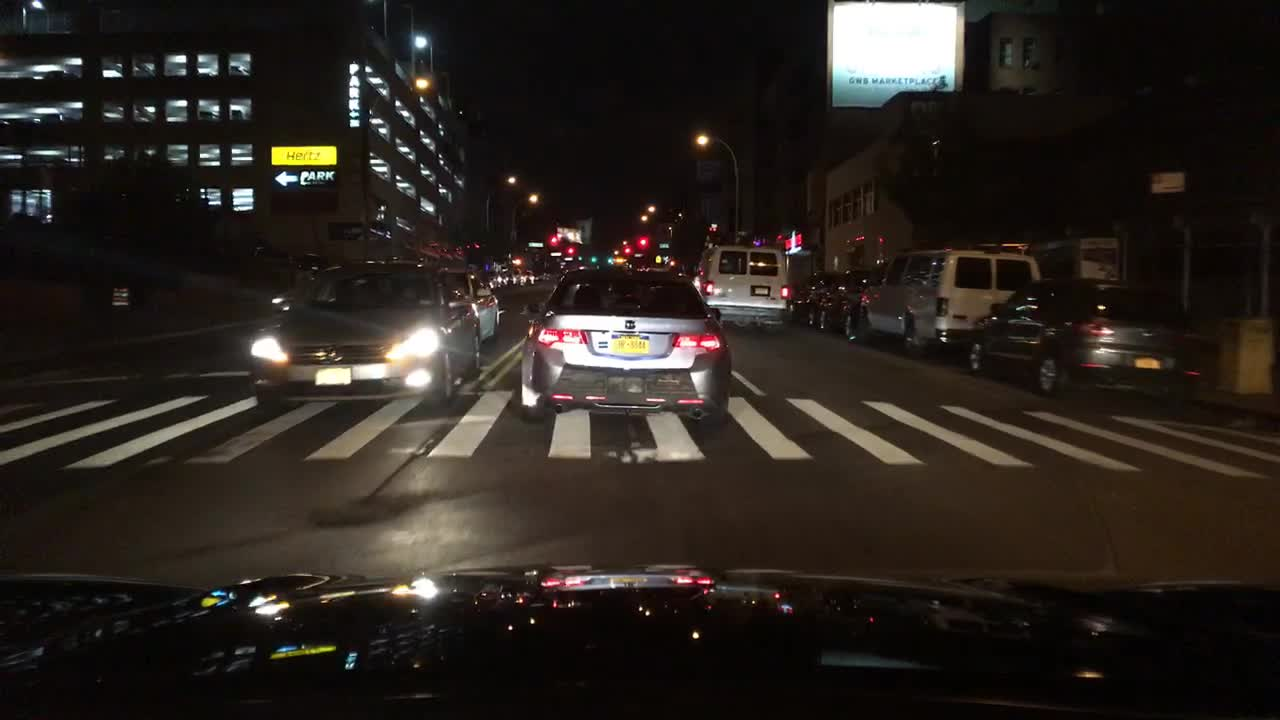car: (252, 259, 484, 410), (968, 273, 1225, 402), (521, 267, 732, 423), (857, 242, 1041, 353), (698, 247, 788, 332), (818, 264, 885, 337), (445, 268, 497, 340), (791, 272, 840, 325), (272, 278, 311, 315), (482, 272, 496, 292), (520, 267, 535, 285), (496, 272, 509, 288), (507, 272, 520, 284)
traffic light: (547, 232, 560, 243), (637, 234, 646, 246), (623, 244, 631, 254), (567, 244, 575, 254)
traffic sign: (277, 167, 336, 188), (1154, 169, 1185, 191), (529, 241, 541, 246)
